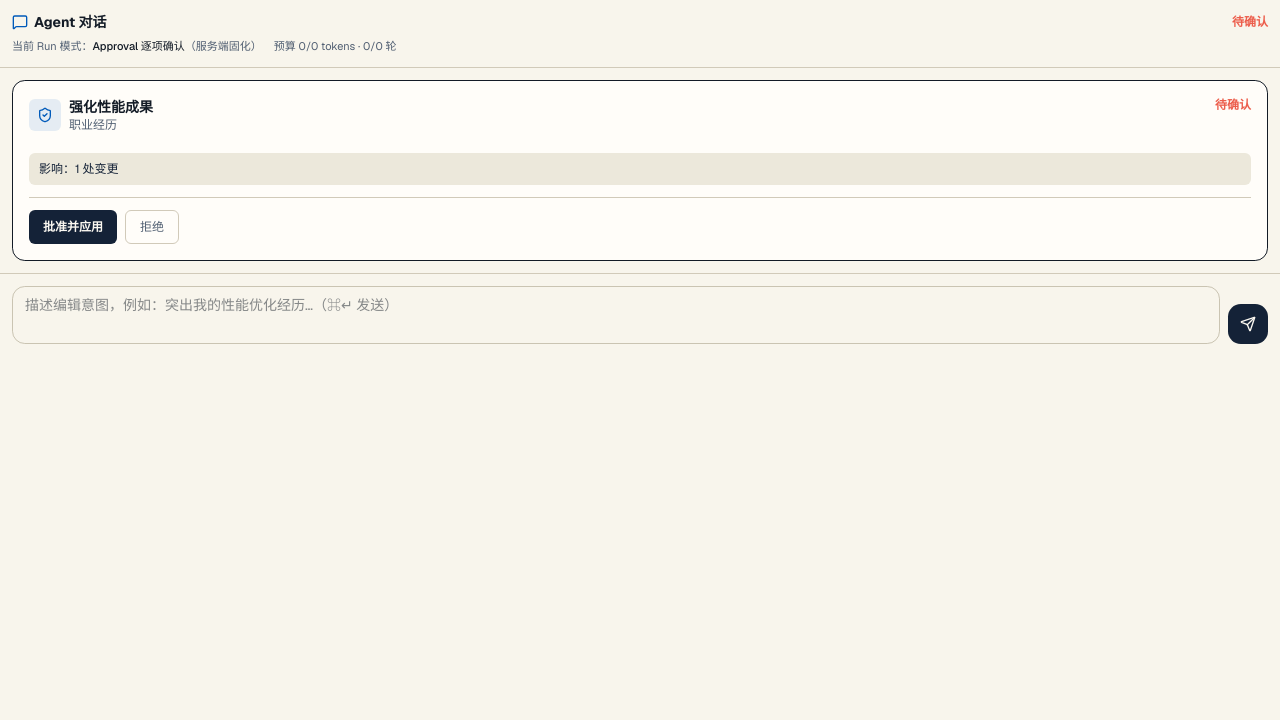
it: RunPanel 发送前拦截 › 确认框取消后保留输入，且不发请求
Type "重新总结" into the text box named "对话输入" at (616, 314), box [12,286,1220,344]
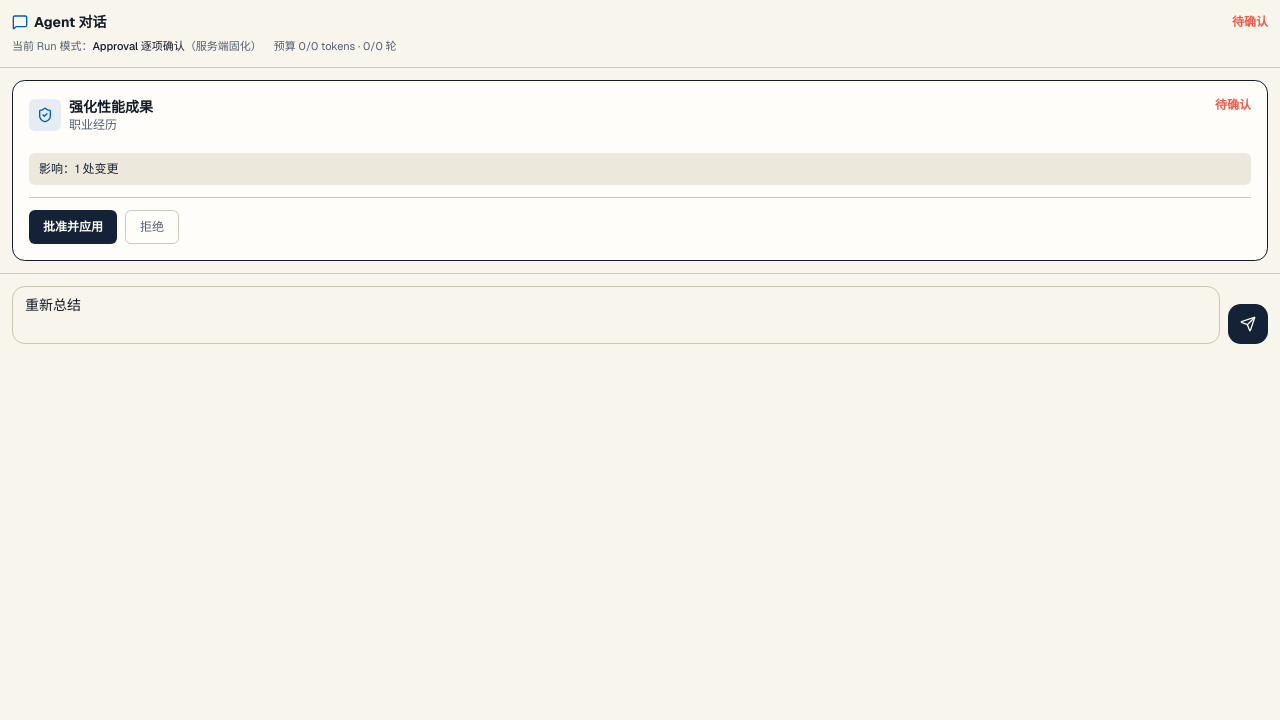
Click the button named "发送" at (1248, 324), box [1228,304,1268,344]
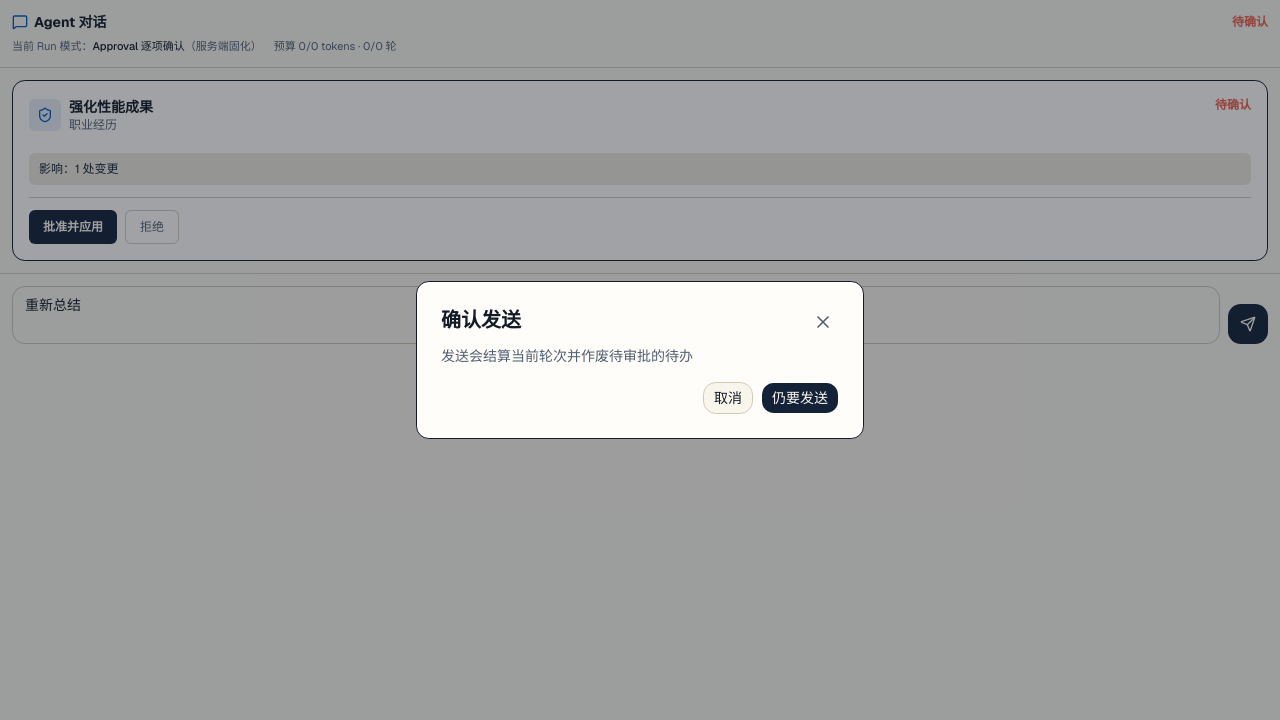
Click the button "取消" at (728, 398), box [703,382,753,414]
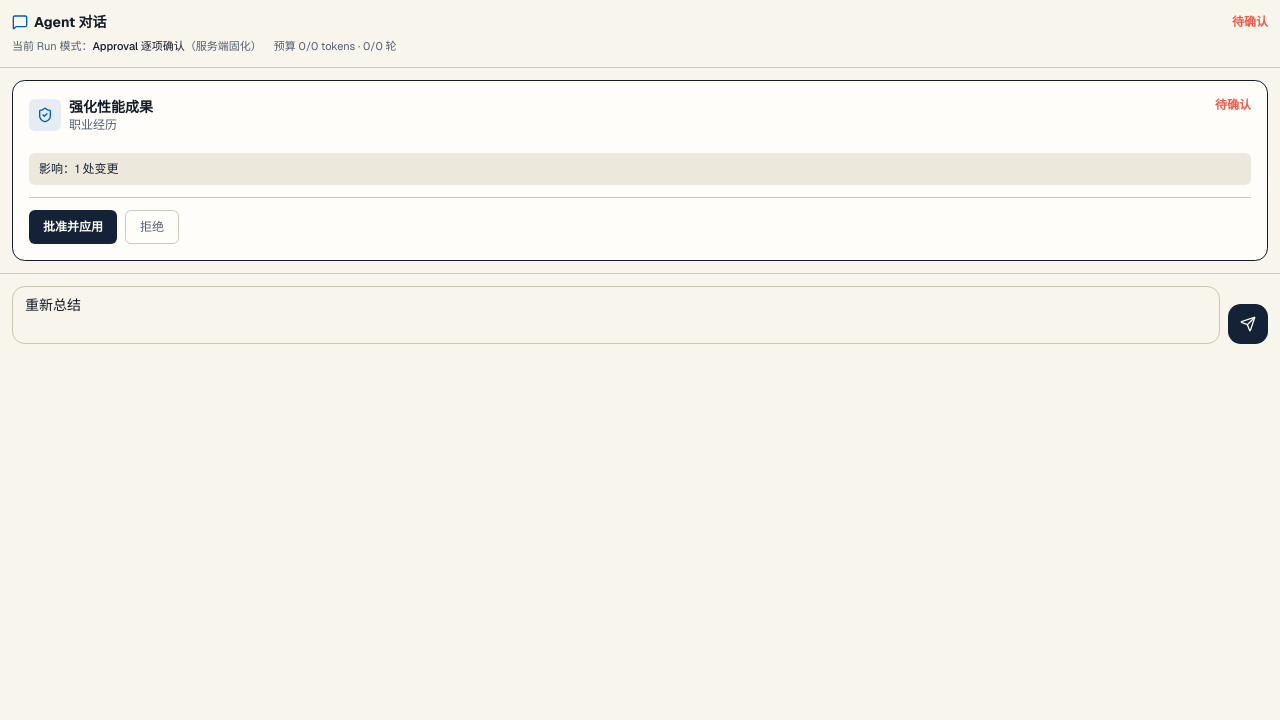
Expected: the dialog is gone
